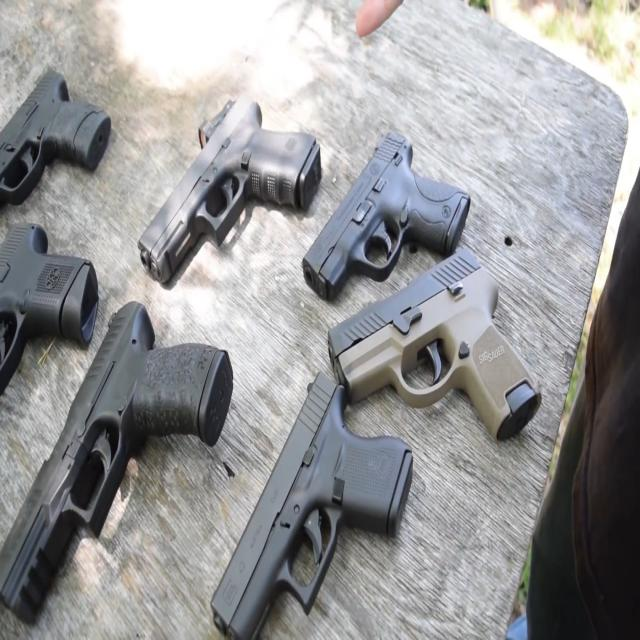handgun: (0, 298, 240, 606), (205, 347, 447, 639), (308, 239, 552, 454), (136, 92, 324, 290), (286, 116, 478, 304), (0, 204, 109, 390), (0, 56, 115, 216)
